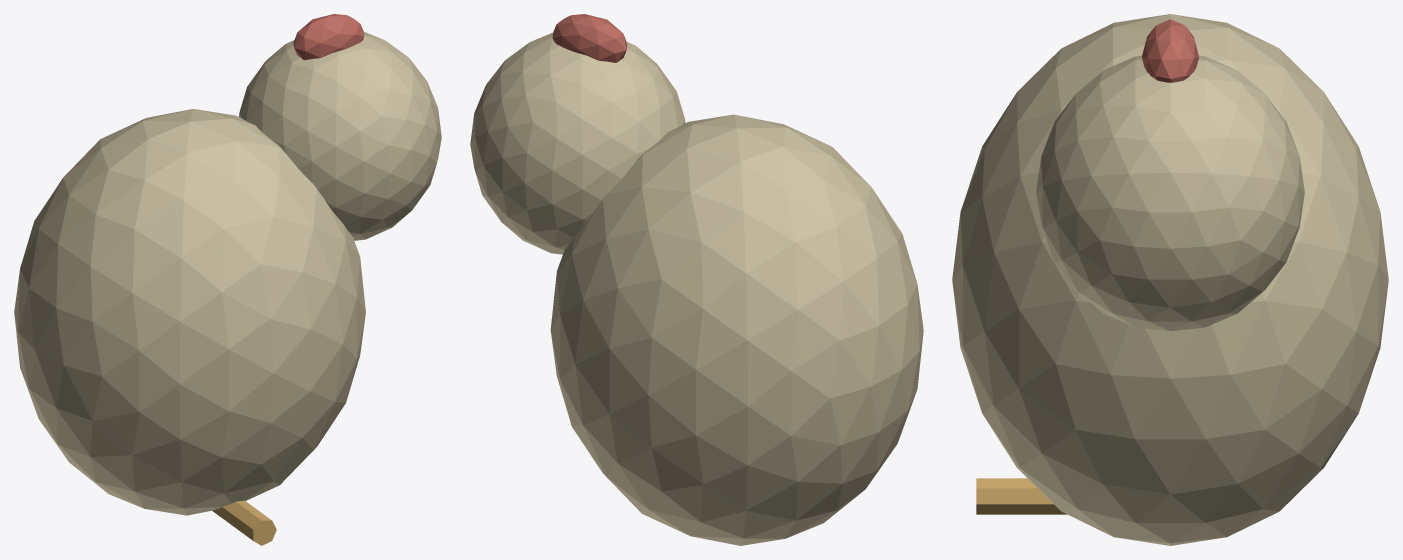
File: chicken-high.glb
The picture shows the model from 3 angles, left to right: view 1: azimuth 30°, elevation 25°; view 2: azimuth 150°, elevation 25°; view 3: azimuth 270°, elevation 25°; orthographic projection. The views are drawn at different scales.
Visible parts, largest first — view 1: body, head, comb, leg; view 2: body, head, comb; view 3: body, head, comb, leg.
Boxes of the visible parts, left/top/right/bottom form: body: left=14, top=109, right=365, bottom=515; head: left=239, top=31, right=441, bottom=240; comb: left=293, top=14, right=364, bottom=60; leg: left=212, top=500, right=276, bottom=545; body: left=550, top=114, right=923, bottom=545; head: left=470, top=32, right=685, bottom=254; comb: left=552, top=14, right=627, bottom=62; body: left=952, top=14, right=1388, bottom=545; head: left=1036, top=55, right=1304, bottom=330; comb: left=1142, top=19, right=1198, bottom=82; leg: left=976, top=478, right=1066, bottom=514.
Bounding box in the file's own units: 0.7928 × 0.8727 × 0.5848.
